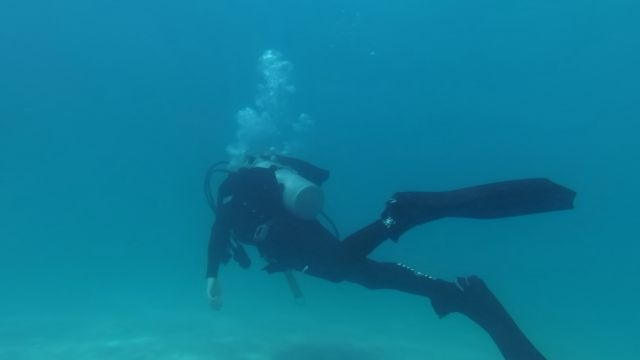Diver: (171, 116, 605, 356)
Hand: (194, 252, 247, 318)
